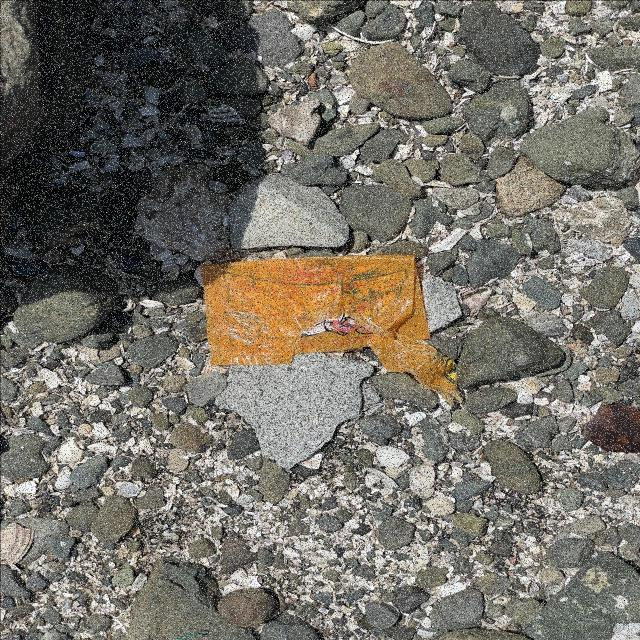plastic_waste: (200, 256, 469, 406)
